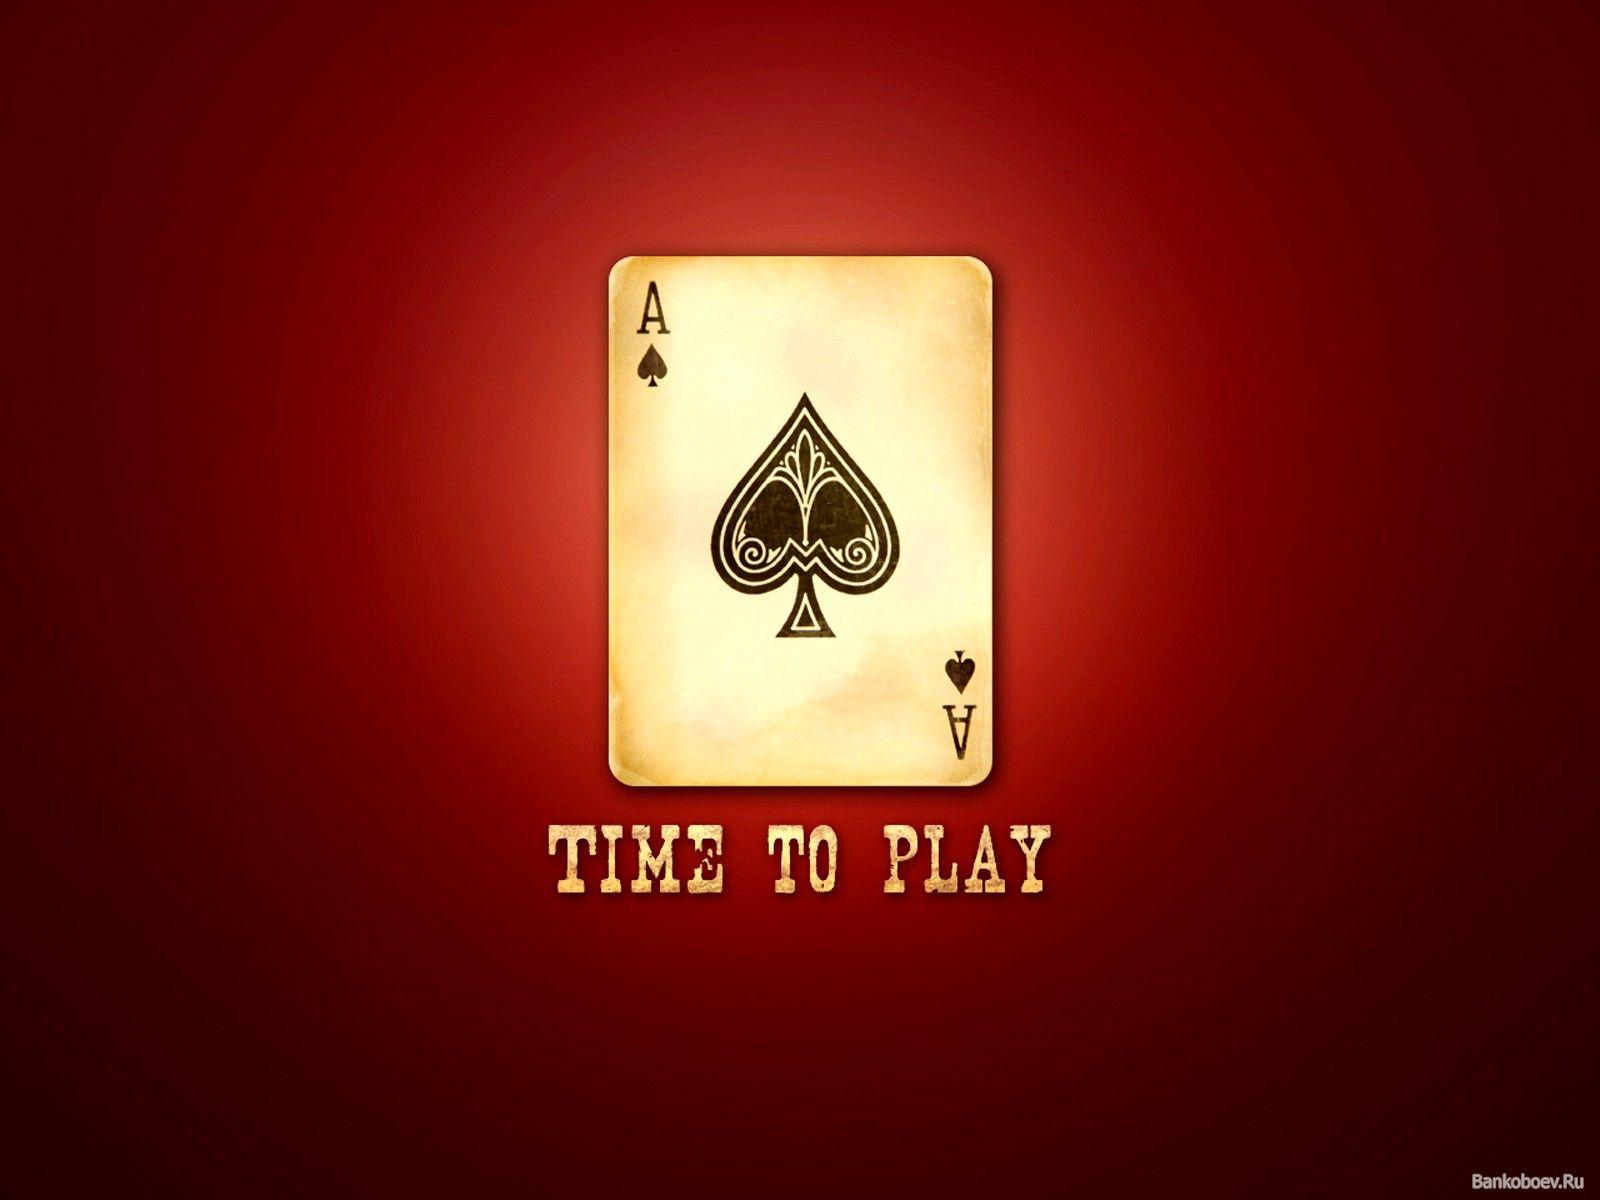ace of spades: (606, 258, 986, 789)
